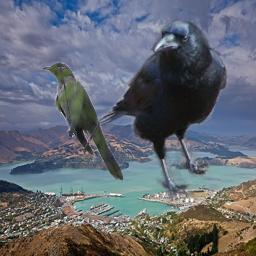Crow: (86, 12, 228, 205)
Cuckoo: (43, 62, 128, 182)
